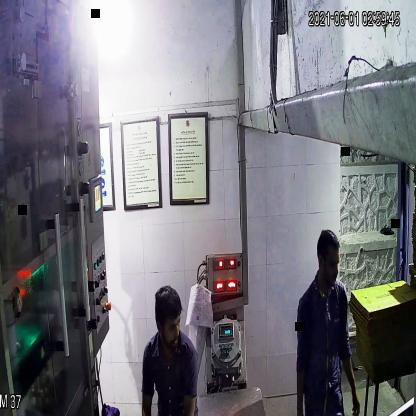no_goggles: (154, 314, 185, 338)
